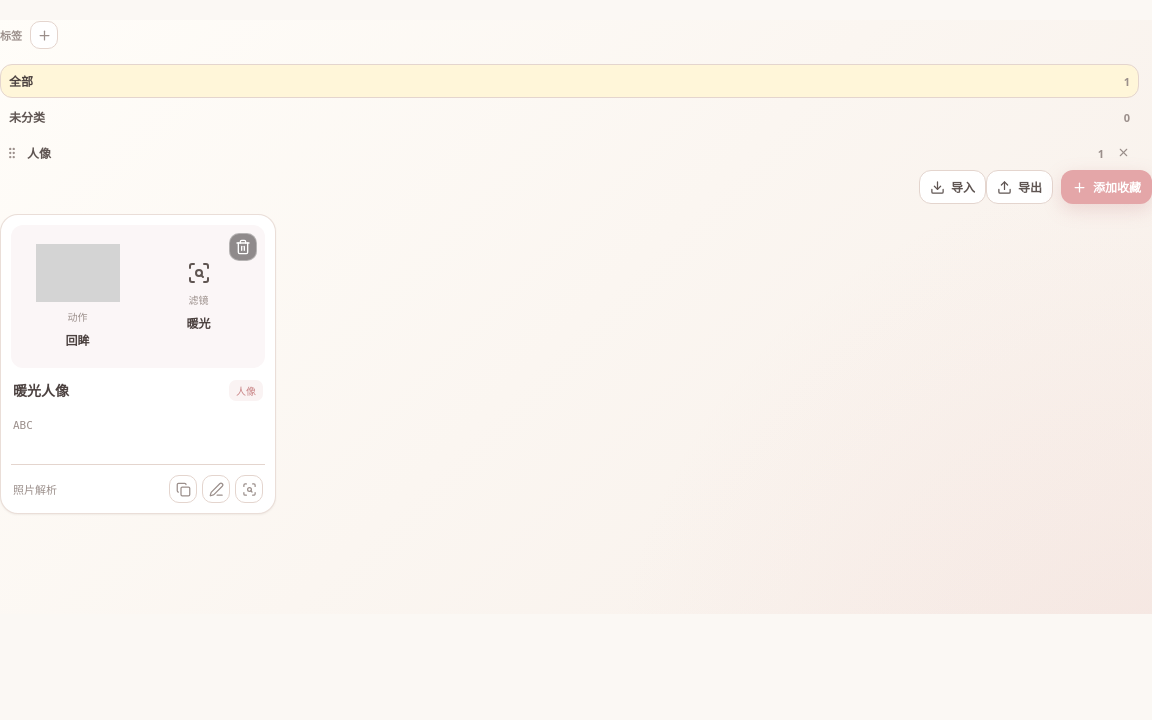
Test: camera favorite selection and resources › displays typed action resources in cards and details and filters empty resources
Click the button named "详情" at point(249, 489), box [235, 475, 263, 503]
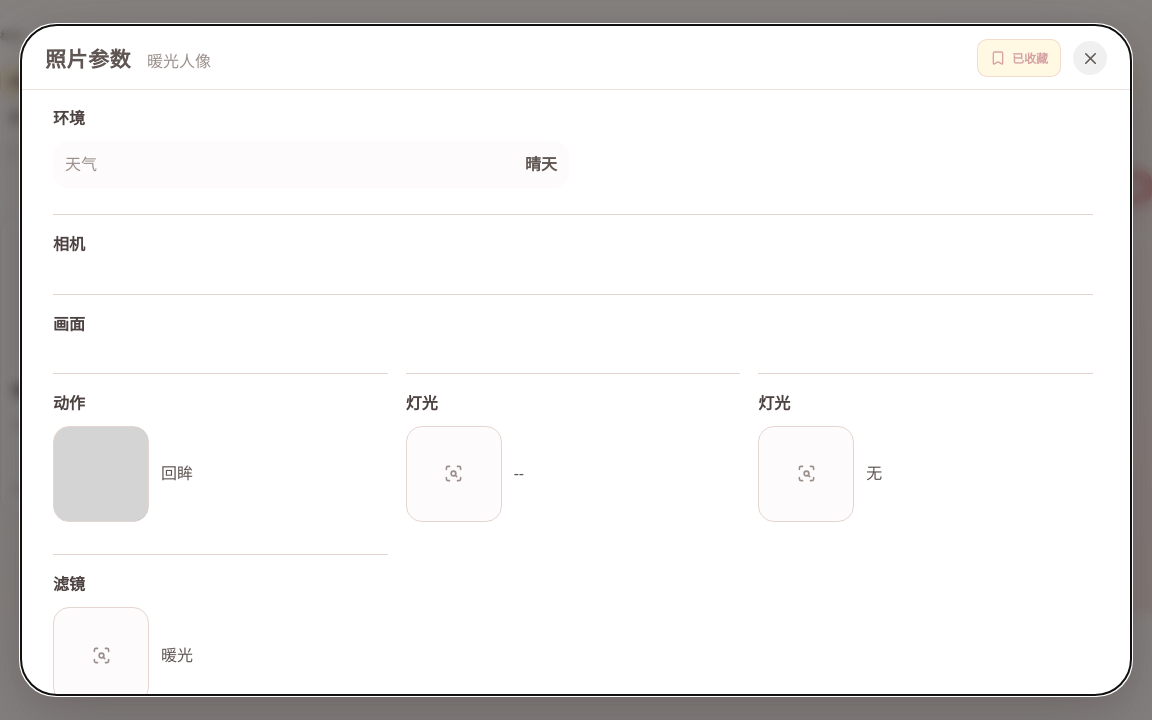
Expected: the element that starts with "照片参数" is shown
Expected: the element that starts with "照片参数" shows "回眸", [161, 462, 193, 484]
Expected: the element that starts with "照片参数" shows "晴天", [525, 153, 557, 175]
